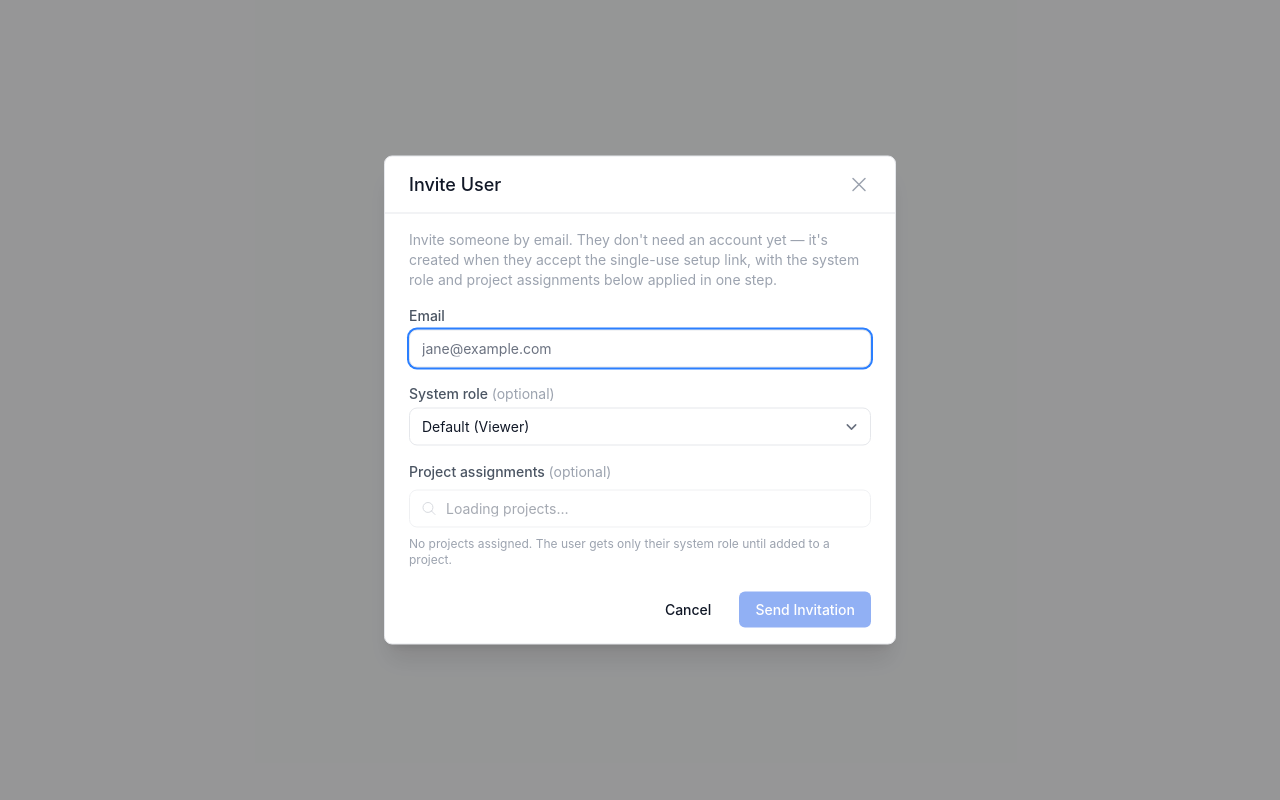
Scenario: GlobalInviteUserModal › shows the out-of-band setup link with a Copy button on success
The image size is (1280, 800).
Type "carol@x.io" into the field with placeholder "jane@example.com" at (640,348), box [409,330,871,368]
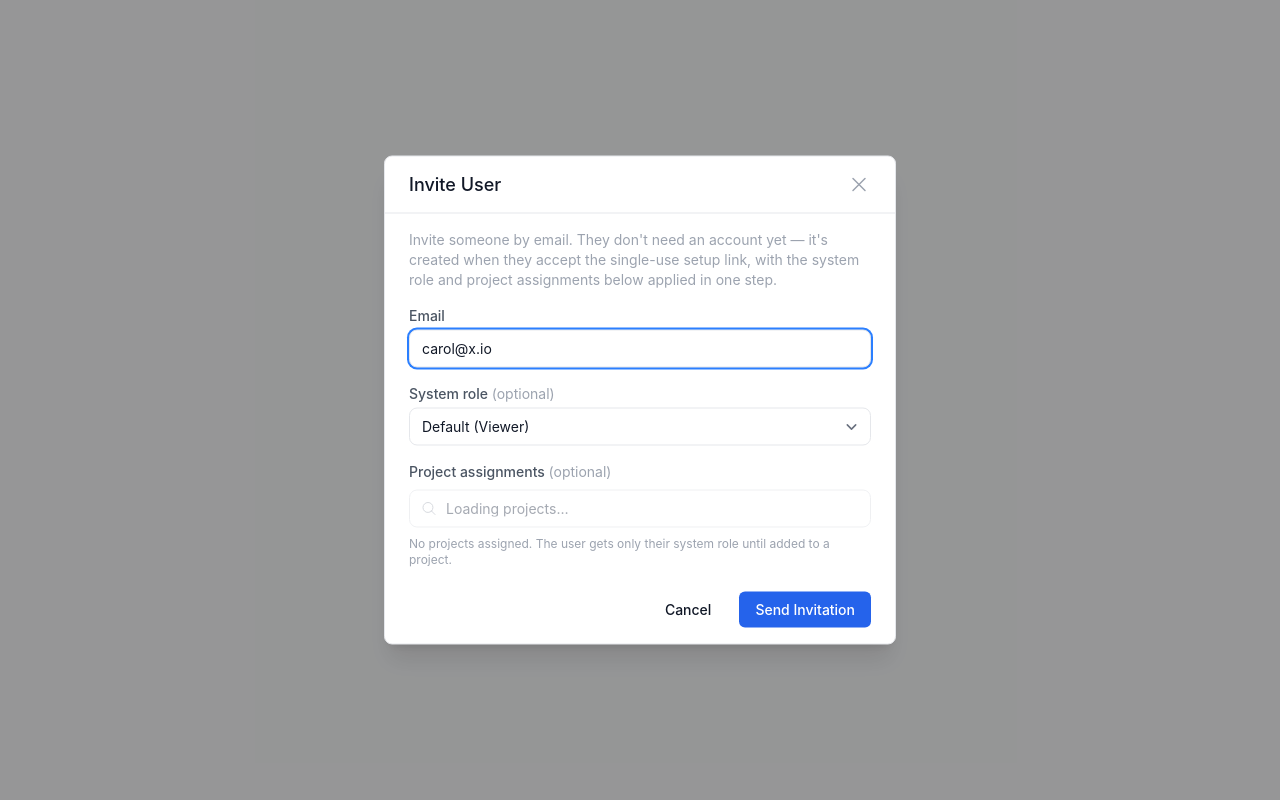
Click the button "Send Invitation" at (805,610), box [739,592,871,628]
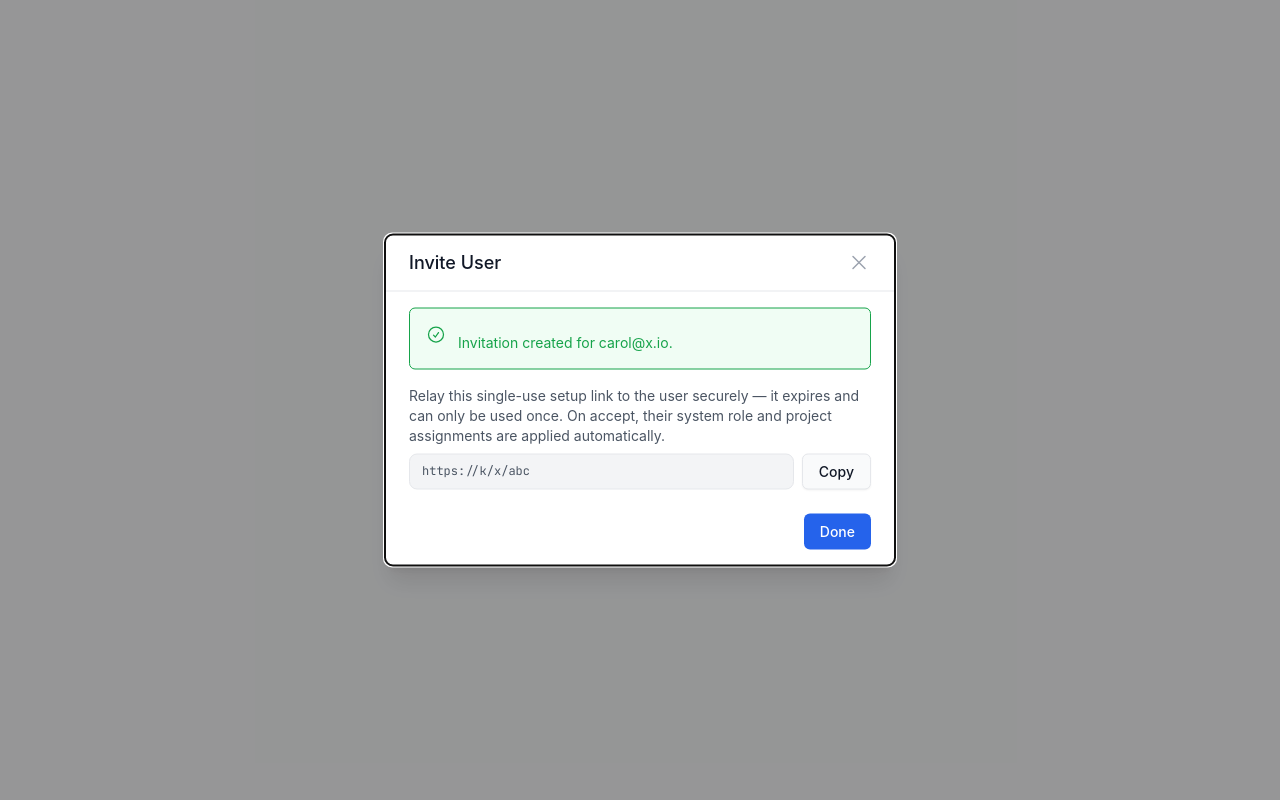
Expected: the text "https://k/x/abc" is shown, [409,454,794,490]
Expected: the button "Copy" is shown, [802,454,871,490]
